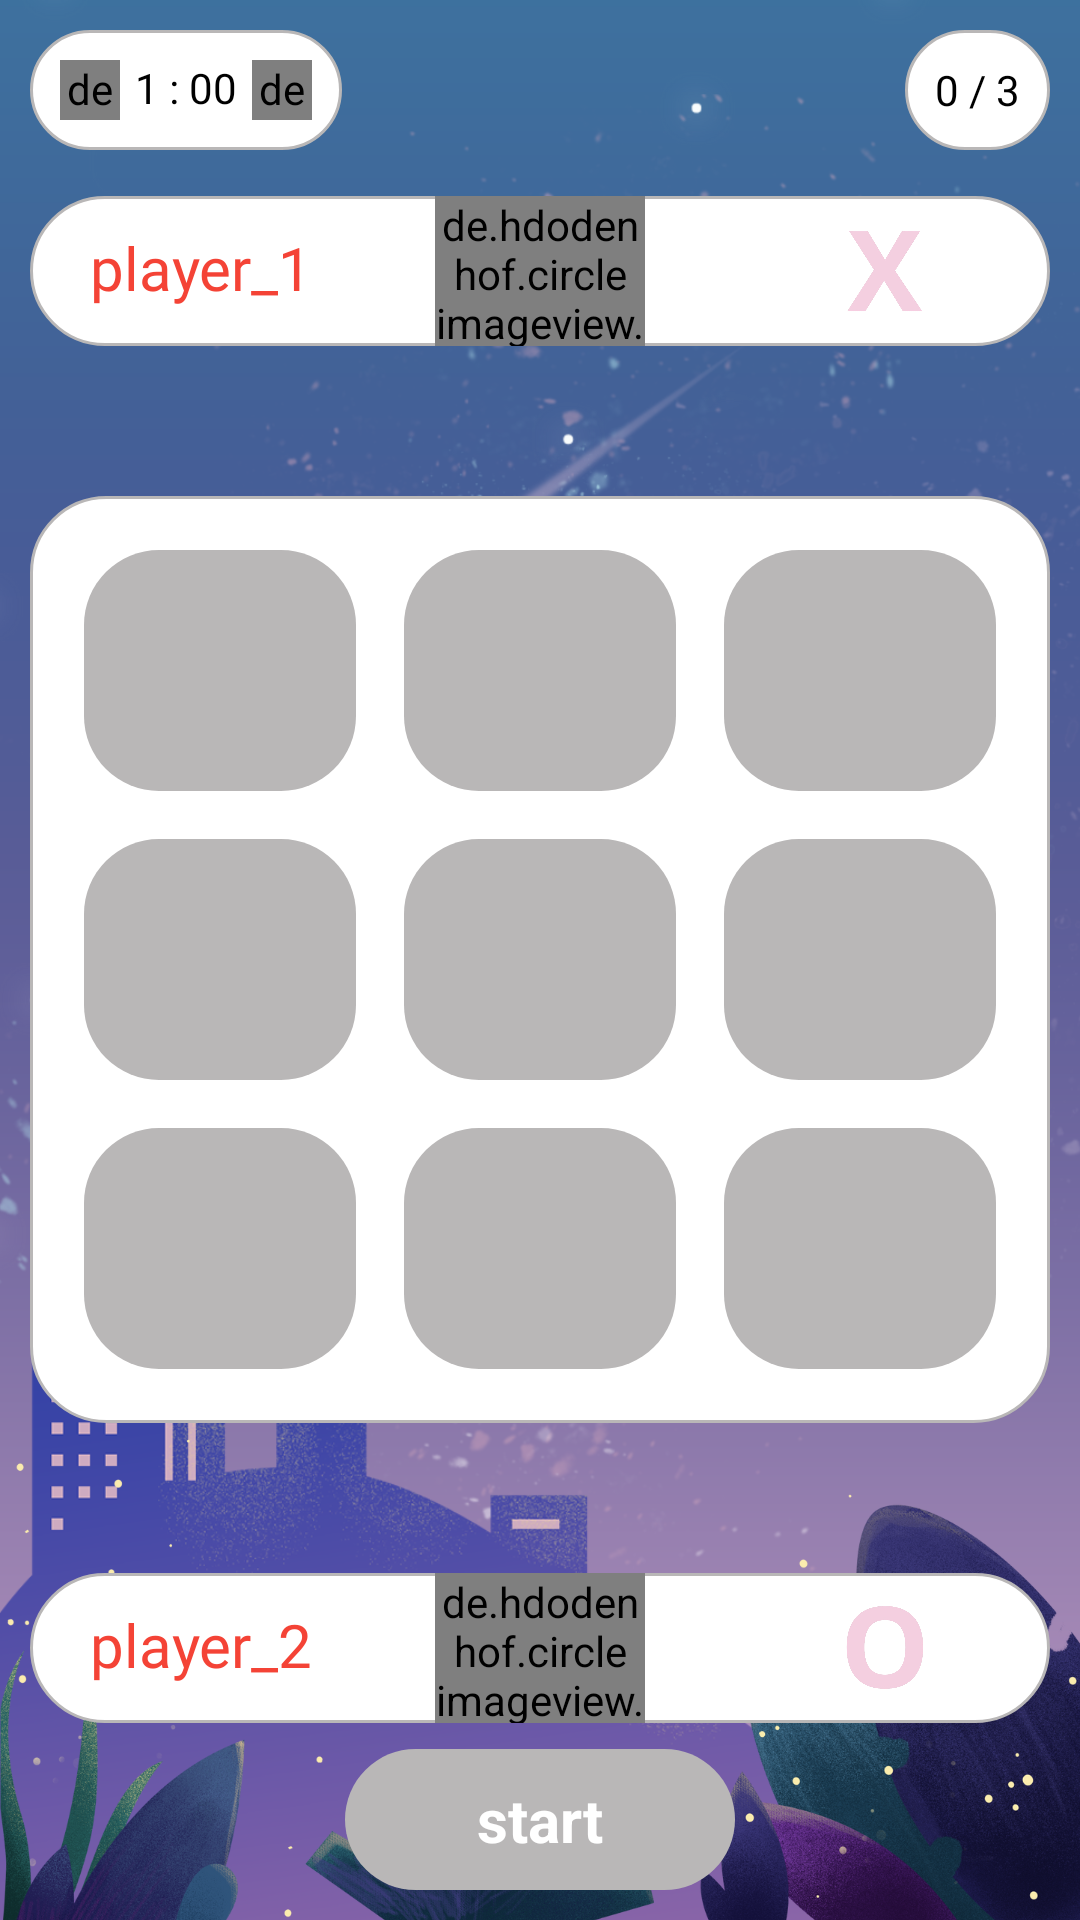

Icons on this 1080x1920 Android screen, each with the point to tap as [x,y]:
symbol: [885,271], [885,1648]
